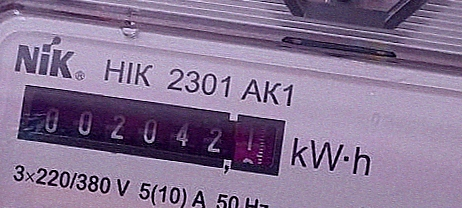0: (40, 105, 62, 137), (138, 116, 160, 148), (74, 108, 94, 141)
1: (240, 124, 258, 156)
2: (106, 113, 128, 144), (204, 125, 224, 156)
4: (171, 118, 193, 152)
screen: (10, 81, 291, 187)
